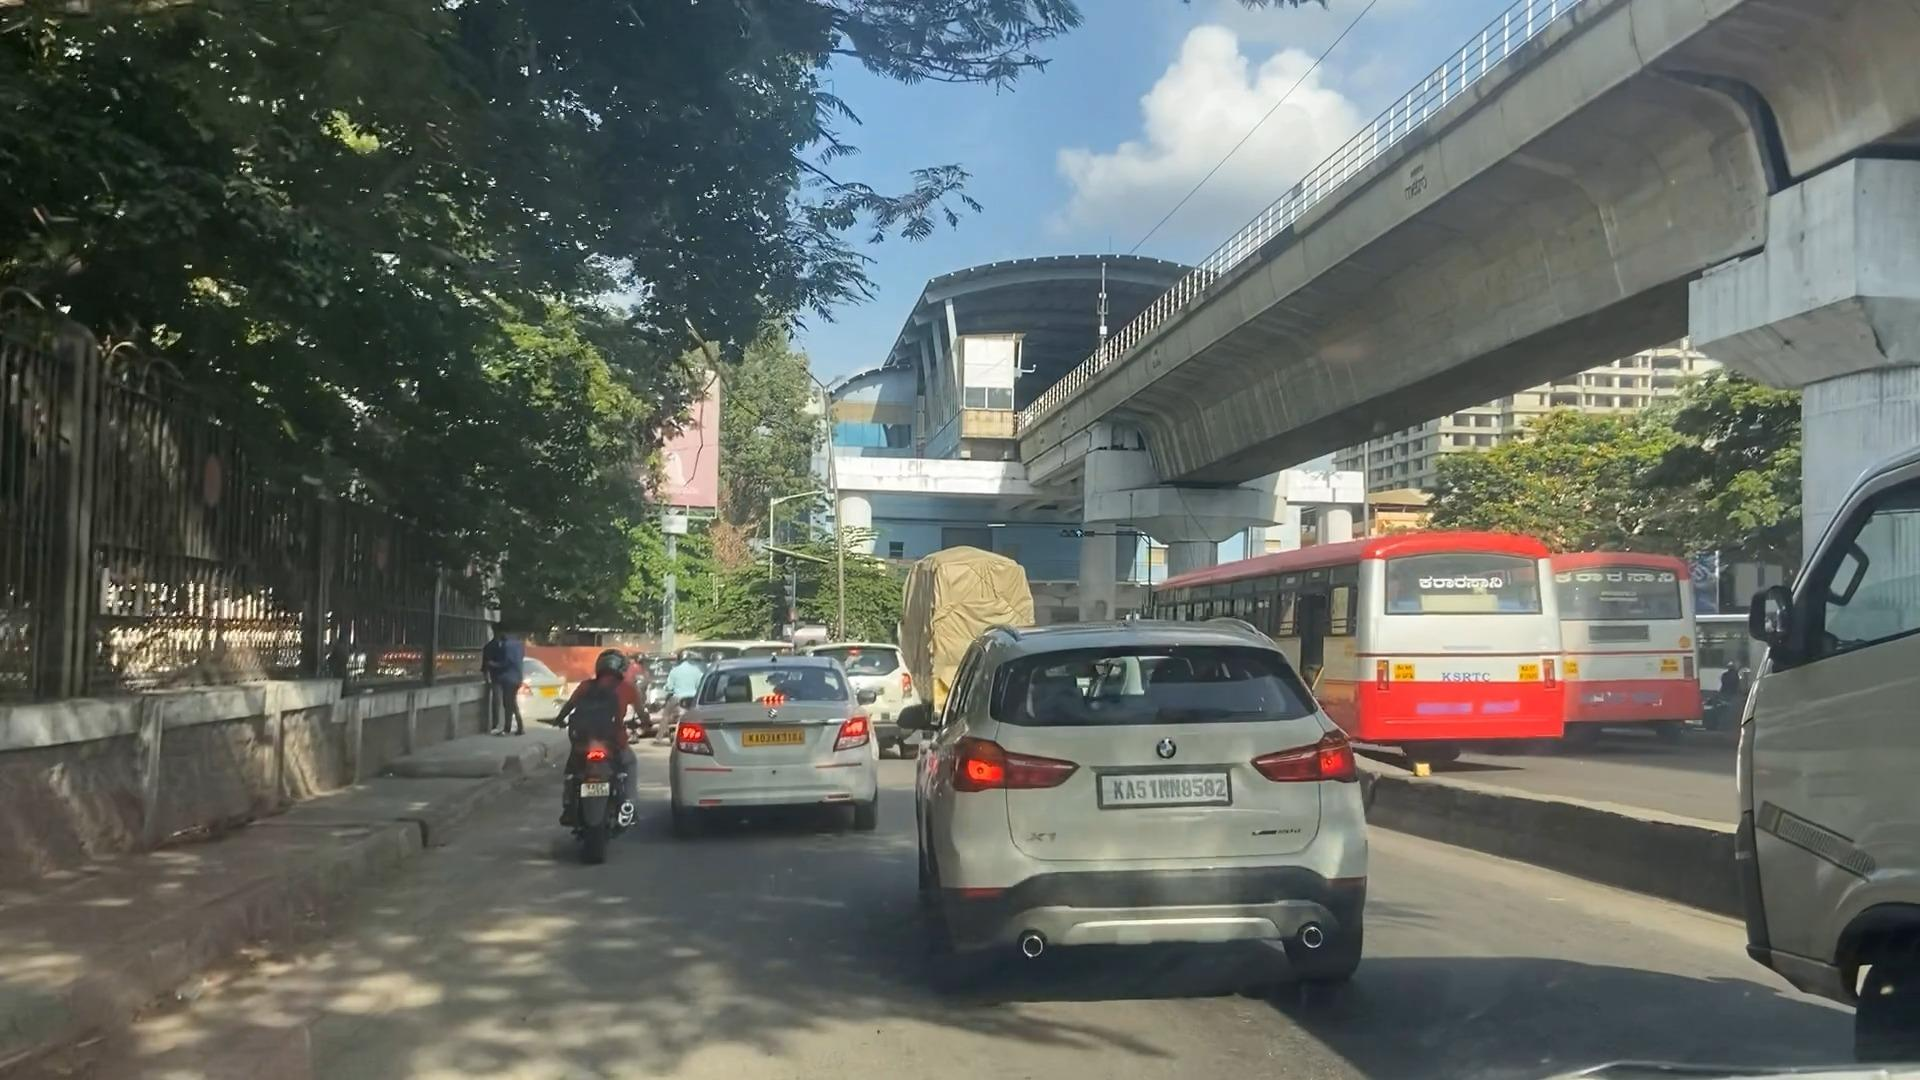HMV: (1291, 522, 1580, 746)
